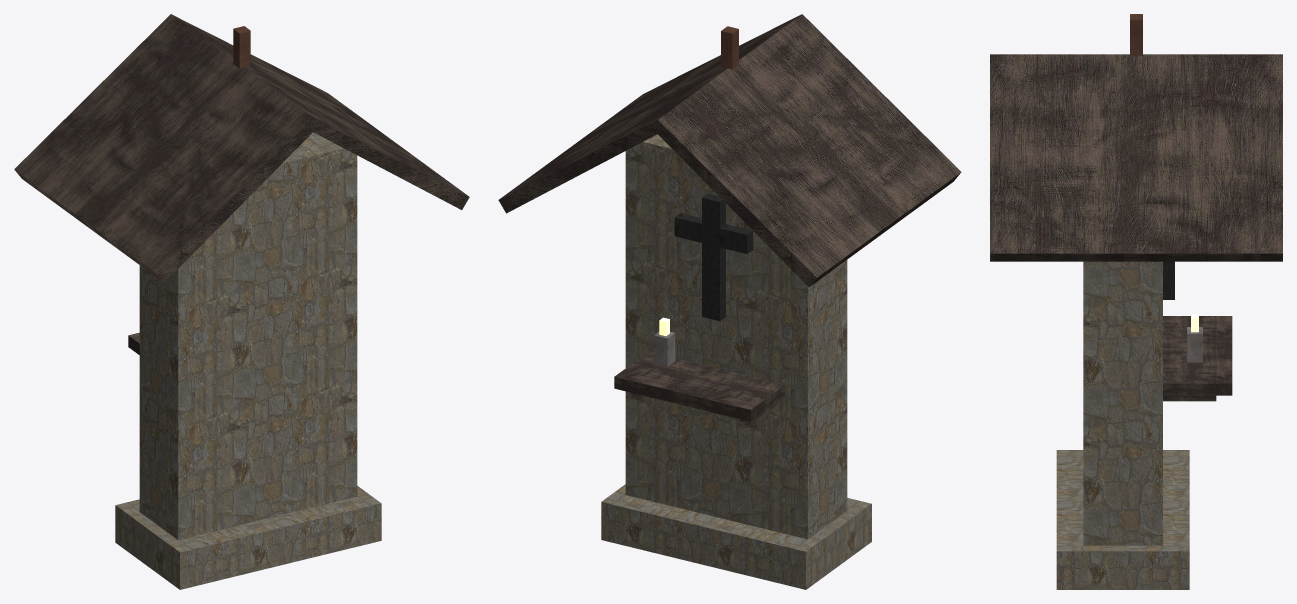
Rendered from prop_wayshrine.glb.
3 views of the same model, side by side, from view 1: azimuth 30°, elevation 25°; view 2: azimuth 150°, elevation 25°; view 3: azimuth 270°, elevation 25° (orthographic). The views are drawn at different scales.
Visible parts, largest first — view 1: prop_wayshrine; view 2: prop_wayshrine; view 3: prop_wayshrine.
Part boxes in pixels (left/top/right/bottom): prop_wayshrine: left=14, top=14, right=469, bottom=589; prop_wayshrine: left=498, top=14, right=961, bottom=589; prop_wayshrine: left=990, top=14, right=1282, bottom=589.
Size of the model in its own units: 1.4 by 2.16 by 1.1.
6 materials, 5 textured.
